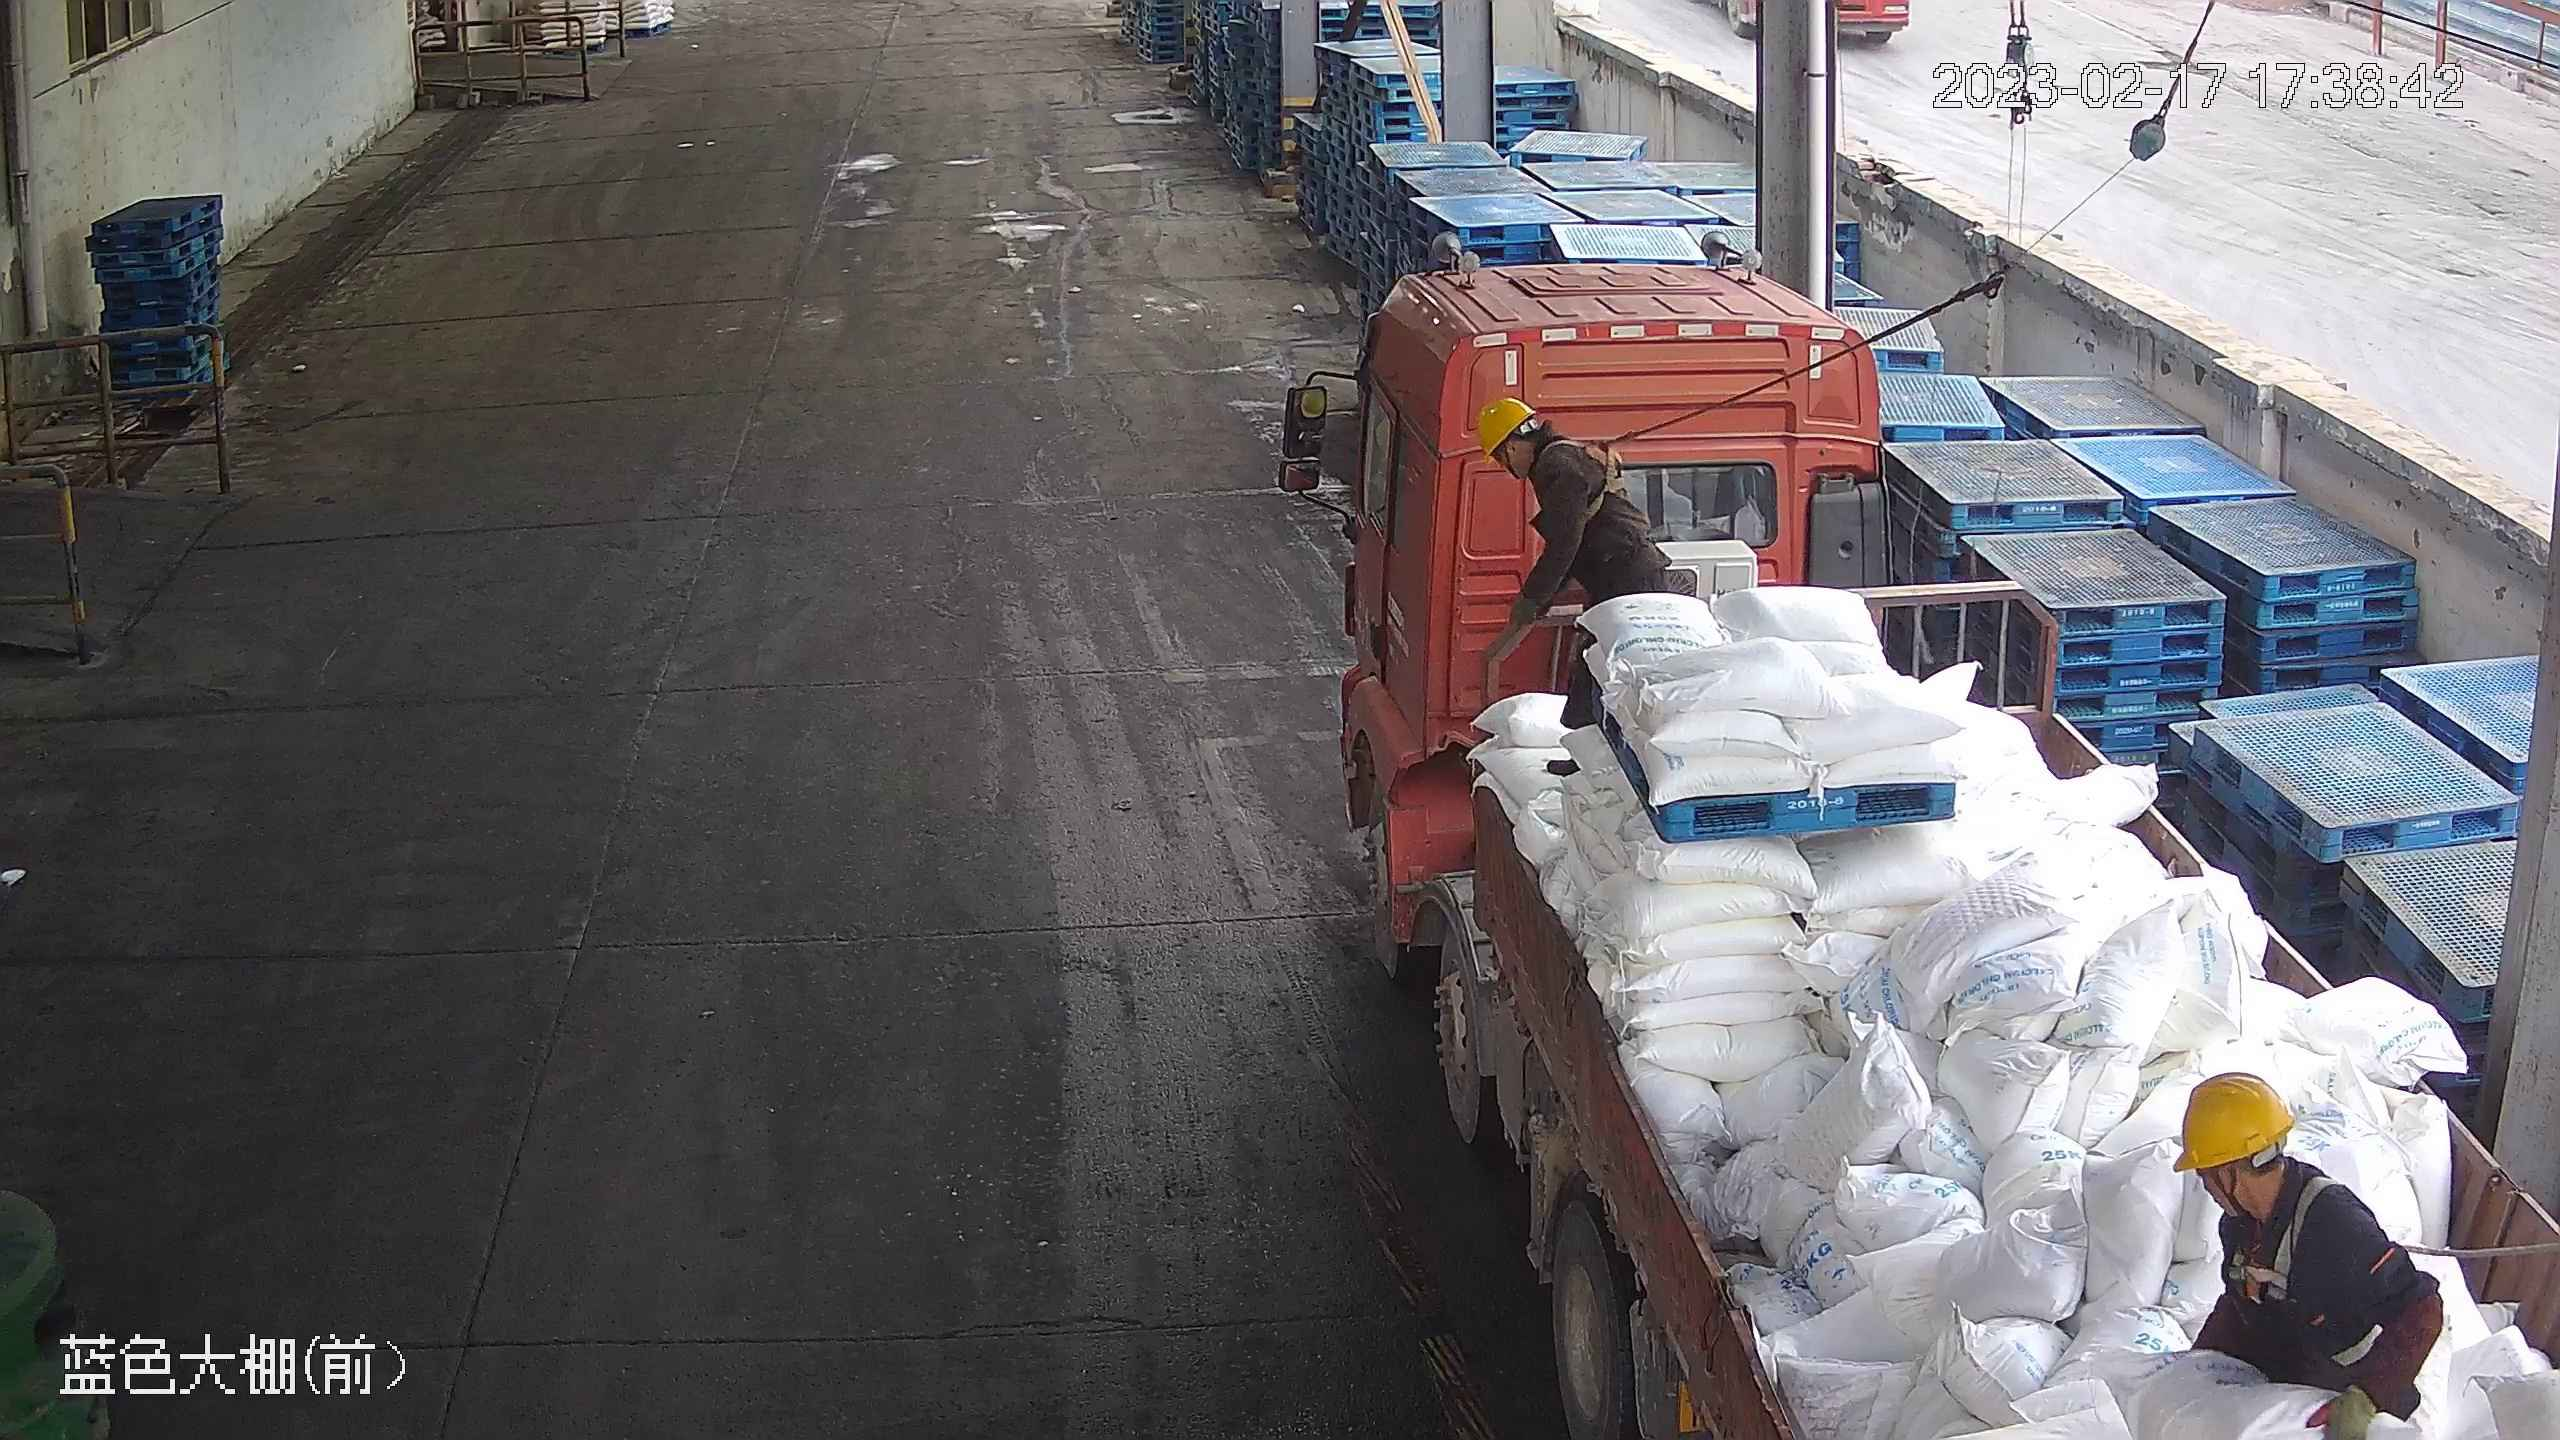belt: (2216, 1164, 2351, 1303), (1544, 429, 1643, 527)
head: (2169, 1070, 2381, 1278), (1474, 392, 1611, 517)
helmet: (2171, 1070, 2299, 1171), (1473, 391, 1536, 463)
people: (2157, 1067, 2450, 1439), (1468, 391, 1675, 760)
truck: (1277, 194, 2560, 1440)
